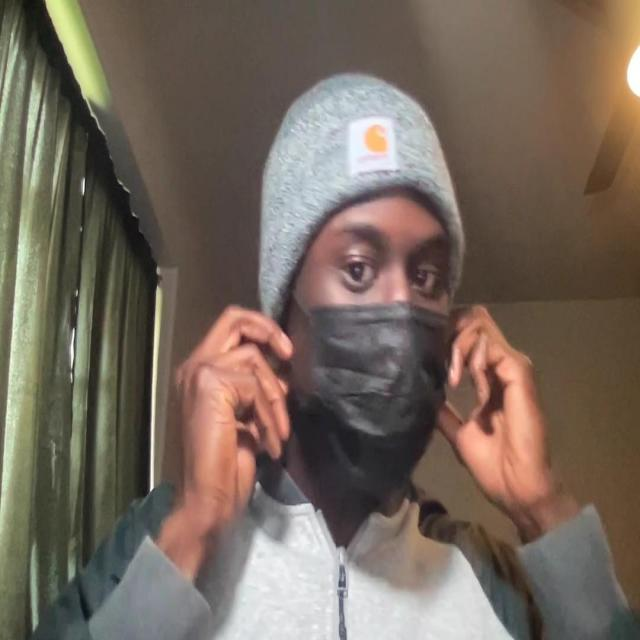face: (272, 109, 463, 498)
